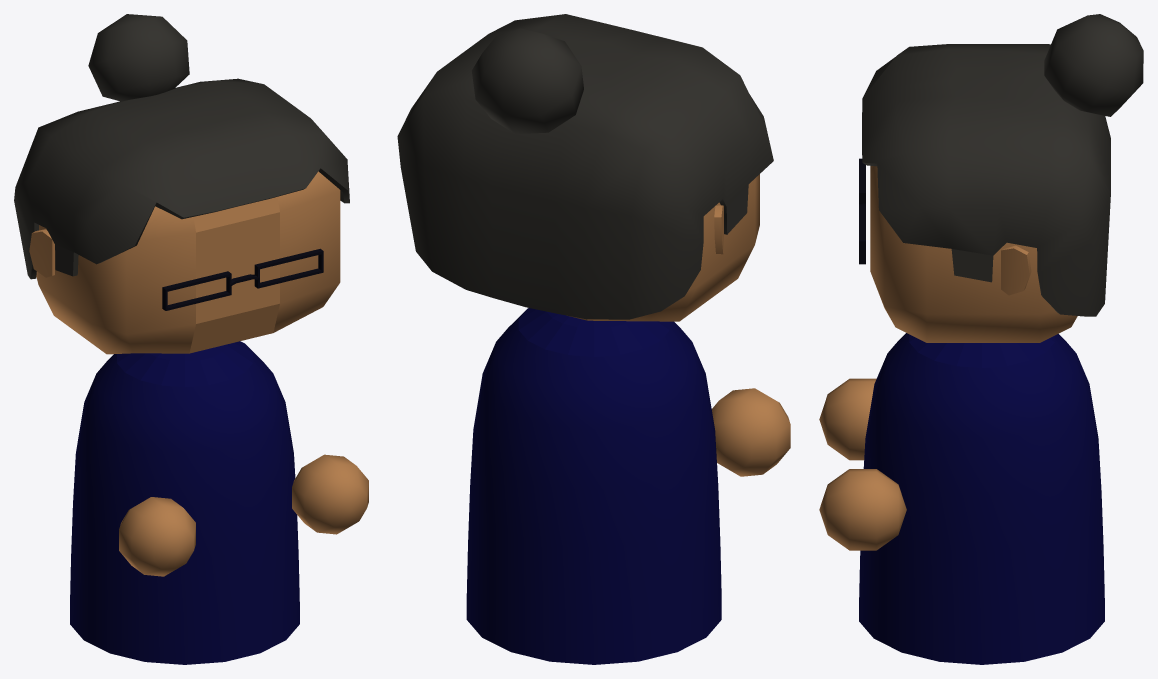
File: Abuela_low.fbx
The picture shows the model from 3 angles, left to right: view 1: azimuth 30°, elevation 25°; view 2: azimuth 150°, elevation 25°; view 3: azimuth 270°, elevation 25°; orthographic projection. The views are drawn at different scales.
Parts seen in each view (by area): view 1: Cylinder001, Plane001, Box001, Moño, Sphere001, Sphere002, gafitas, Oreja L; view 2: Cylinder001, Plane001, Moño, Sphere002, Box001; view 3: Cylinder001, Plane001, Box001, Moño, Sphere001, Sphere002, Oreja R, gafitas.
Boxes of the visible parts, x1,y1,x2,y2 form: Cylinder001: (70,341,299,664); Plane001: (14,78,349,279); Box001: (36,171,340,354); Moño: (88,14,189,101); Sphere001: (292,454,368,534); Sphere002: (119,497,195,576); gafitas: (162,248,323,310); Oreja L: (29,229,54,277); Cylinder001: (466,308,721,664); Plane001: (397,14,773,319); Moño: (472,28,583,134); Sphere002: (711,388,790,476); Box001: (567,174,759,321); Cylinder001: (859,333,1104,664); Plane001: (862,44,1110,316); Box001: (870,166,1077,342); Moño: (1044,14,1143,116); Sphere001: (819,469,906,550); Sphere002: (819,378,876,460); Oreja R: (1001,245,1031,295); gafitas: (859,158,865,264).
Bounding box in the file's own units: 0.0487 × 0.047 × 0.0952.
